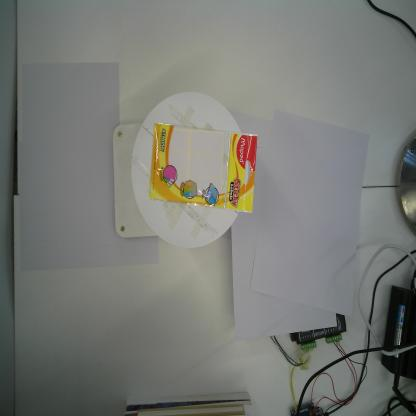Stationery: (148, 122, 258, 214)
